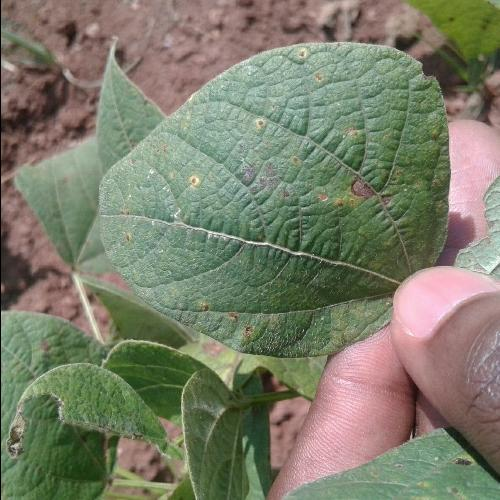embun tepung: (179, 211, 349, 282)
hawar: (173, 94, 287, 191), (294, 36, 329, 69)
